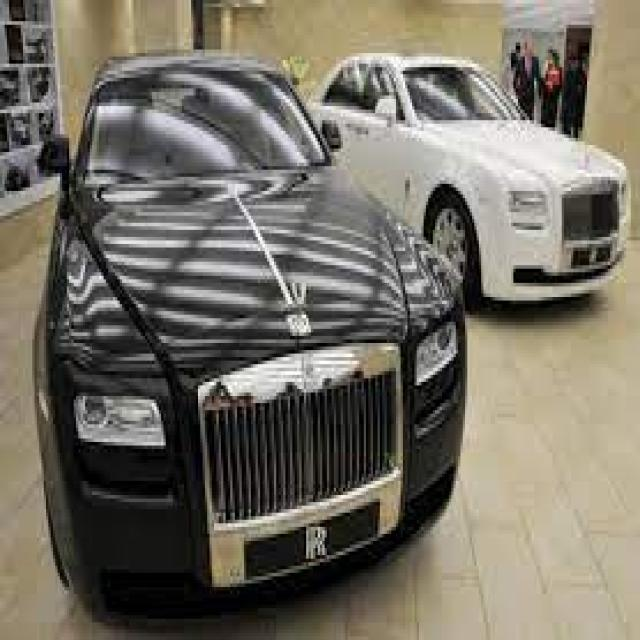car: (26, 51, 466, 636), (315, 40, 638, 315)
